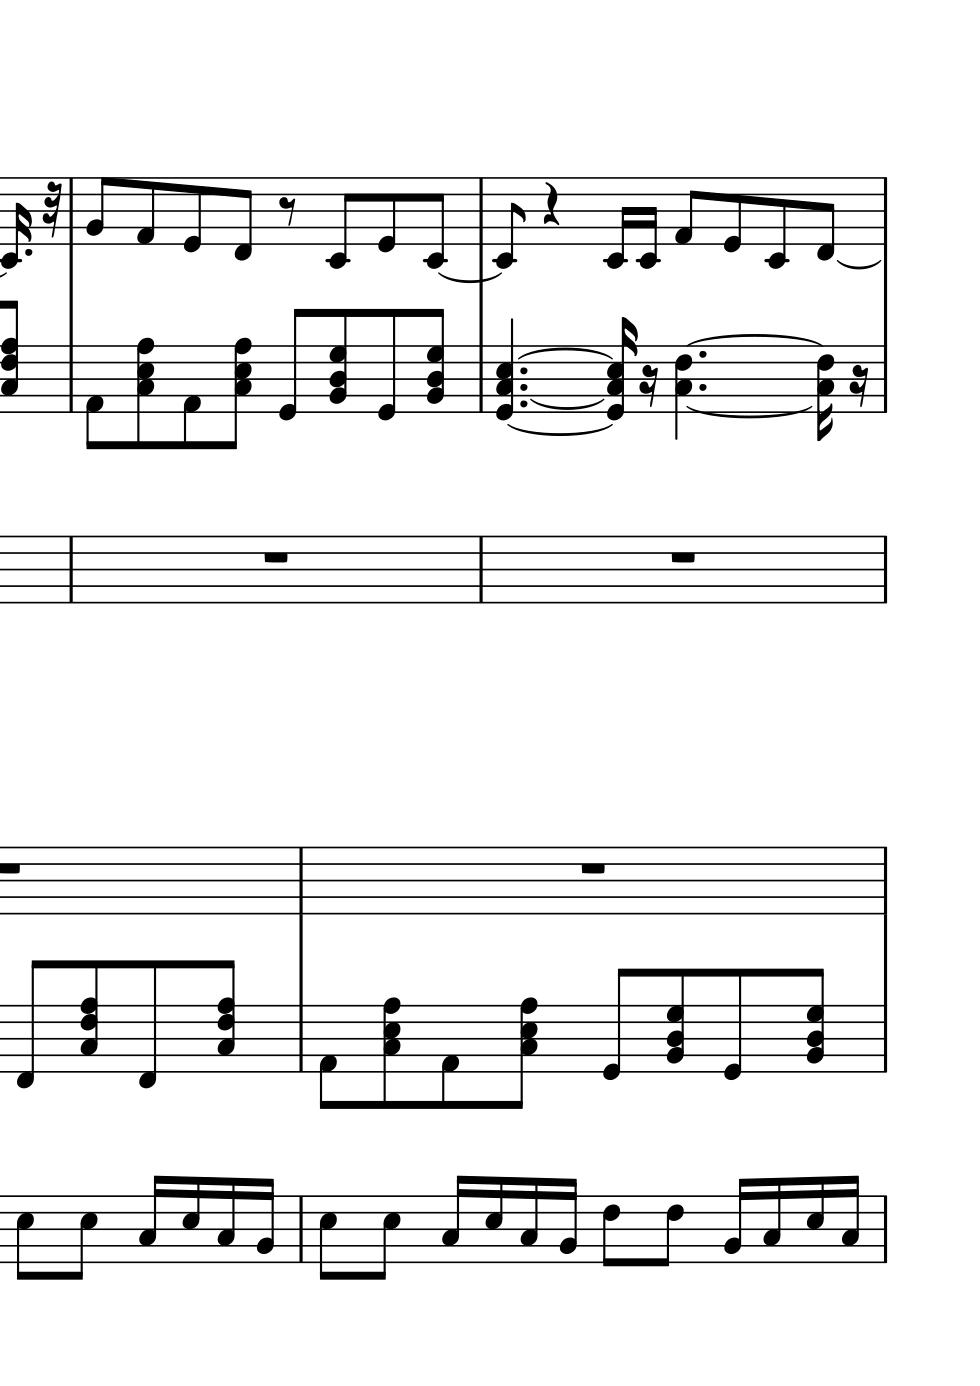16_-2: (602, 176, 631, 273), (1, 177, 30, 271), (634, 174, 660, 273)
16_2: (721, 1177, 750, 1265), (557, 1176, 579, 1265), (253, 1176, 275, 1264)
16_3: (136, 1173, 164, 1265), (440, 1174, 468, 1265), (517, 1176, 540, 1265), (839, 1174, 861, 1265), (214, 1176, 237, 1265), (760, 1176, 783, 1265)
16_3_6: (815, 344, 835, 441)
16_5: (179, 1174, 202, 1265), (804, 1174, 826, 1264), (483, 1175, 504, 1264)
16_th: (606, 316, 640, 424)
4_3_6: (673, 344, 693, 441)
4_th: (495, 316, 515, 421)
8_-1: (8, 958, 45, 1091), (132, 957, 159, 1092), (230, 175, 255, 262), (813, 175, 836, 263)
8_-2: (490, 175, 527, 269), (322, 176, 356, 270), (422, 176, 449, 271), (763, 175, 788, 270)
8_0: (599, 966, 633, 1083), (275, 306, 307, 423), (720, 966, 745, 1083), (375, 306, 398, 423), (179, 175, 204, 255), (720, 175, 743, 255), (375, 175, 398, 253)
8_1: (316, 1003, 339, 1111), (437, 1003, 460, 1111), (83, 343, 105, 451), (180, 344, 202, 452), (673, 176, 701, 246), (133, 175, 157, 247)
8_2: (84, 176, 112, 246)
8_5: (71, 1193, 99, 1283), (373, 1193, 401, 1283), (317, 1193, 338, 1283), (14, 1193, 34, 1282)
8_6: (655, 1193, 684, 1269), (600, 1194, 622, 1270)
8_th: (223, 336, 253, 452), (508, 995, 537, 1110), (80, 959, 101, 1073), (382, 996, 403, 1110), (135, 336, 156, 449), (1, 298, 21, 415), (328, 308, 349, 416), (426, 306, 447, 415), (806, 967, 826, 1073), (667, 969, 687, 1074), (218, 958, 235, 1074)
Rests1: (576, 859, 609, 877), (667, 548, 699, 566), (260, 548, 291, 565)
Rests16: (638, 364, 659, 410), (848, 364, 869, 408)
Rests32: (40, 179, 62, 240)
Rests4: (539, 180, 562, 229)
Rests8: (277, 194, 299, 230)
Single_barline: (876, 176, 897, 244), (291, 847, 310, 913), (291, 1006, 310, 1072), (875, 1005, 893, 1073), (875, 1195, 893, 1263), (472, 346, 490, 413), (292, 1196, 310, 1263), (473, 178, 490, 246), (472, 536, 489, 603), (876, 536, 893, 603), (876, 847, 893, 914), (63, 177, 78, 245), (63, 536, 78, 603), (63, 346, 78, 413), (876, 346, 892, 413)
Slur: (687, 404, 809, 421), (687, 333, 820, 345), (506, 424, 612, 436), (515, 347, 612, 359), (529, 397, 603, 413), (835, 258, 882, 270)
dot: (696, 380, 708, 394), (517, 365, 530, 378), (695, 349, 708, 361), (517, 381, 530, 392), (518, 397, 529, 410), (23, 247, 33, 260)
